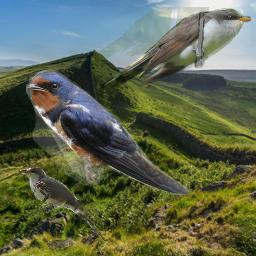Cuckoo: (93, 7, 251, 90), (19, 167, 106, 242)
Swallow: (25, 70, 190, 195)
